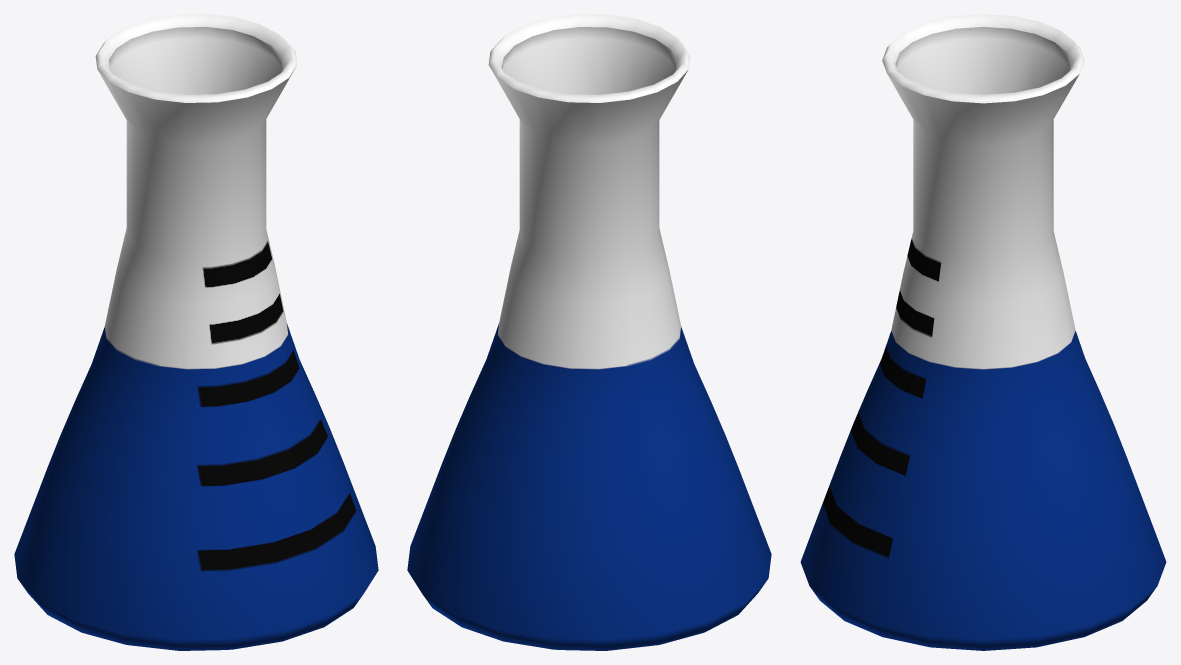
File: flaskBlue.fbx
3 views of the same model, side by side, from view 1: azimuth 30°, elevation 25°; view 2: azimuth 150°, elevation 25°; view 3: azimuth 270°, elevation 25° (orthographic).
Visible parts, largest first — view 1: pasted__pasted__polySurface2; view 2: pasted__pasted__polySurface2; view 3: pasted__pasted__polySurface2.
Part boxes in pixels (left/top/right/bottom): pasted__pasted__polySurface2: left=14, top=14, right=378, bottom=650; pasted__pasted__polySurface2: left=407, top=14, right=771, bottom=650; pasted__pasted__polySurface2: left=800, top=14, right=1166, bottom=650.
Size of the model in its own units: 0.6026 by 0.9845 by 0.6026.
1 material, 1 textured.
